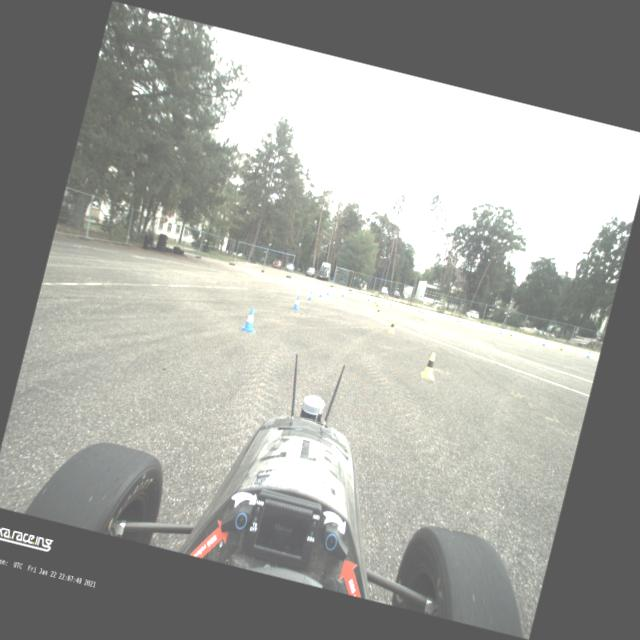blue_cone: (240, 306, 260, 333), (292, 296, 302, 310), (306, 290, 314, 301), (317, 288, 323, 298), (585, 349, 591, 358), (541, 338, 547, 346), (499, 327, 504, 334), (366, 295, 371, 301), (326, 288, 330, 295), (341, 290, 345, 296), (395, 302, 399, 308), (420, 308, 424, 314), (454, 316, 458, 322)
yellow_cone: (420, 350, 440, 380), (387, 317, 398, 333), (374, 306, 382, 316), (557, 344, 564, 354), (508, 332, 514, 339), (456, 318, 462, 325), (372, 299, 377, 306), (374, 302, 378, 310), (389, 302, 394, 308), (417, 308, 421, 314)
